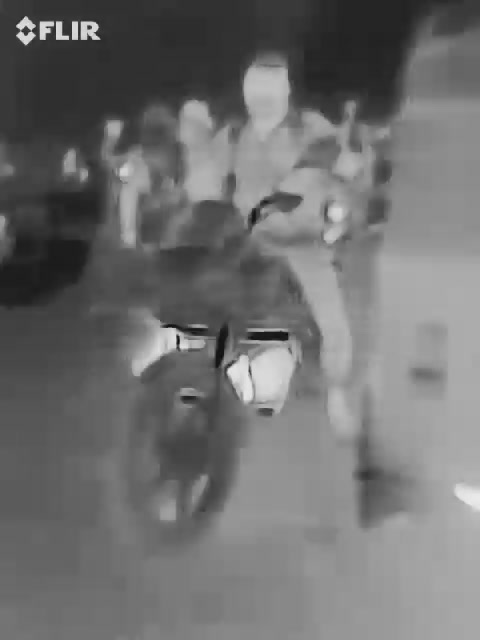head: (237, 56, 300, 117)
